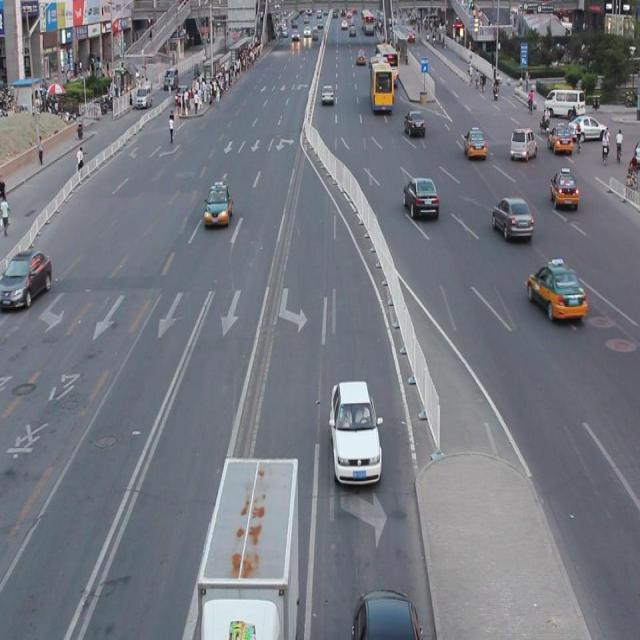bus: (197, 451, 299, 640)
car: (328, 378, 381, 485), (352, 584, 421, 640), (526, 260, 585, 321), (1, 247, 52, 309), (492, 195, 532, 241), (403, 174, 438, 220), (203, 182, 232, 228), (548, 168, 577, 208)
